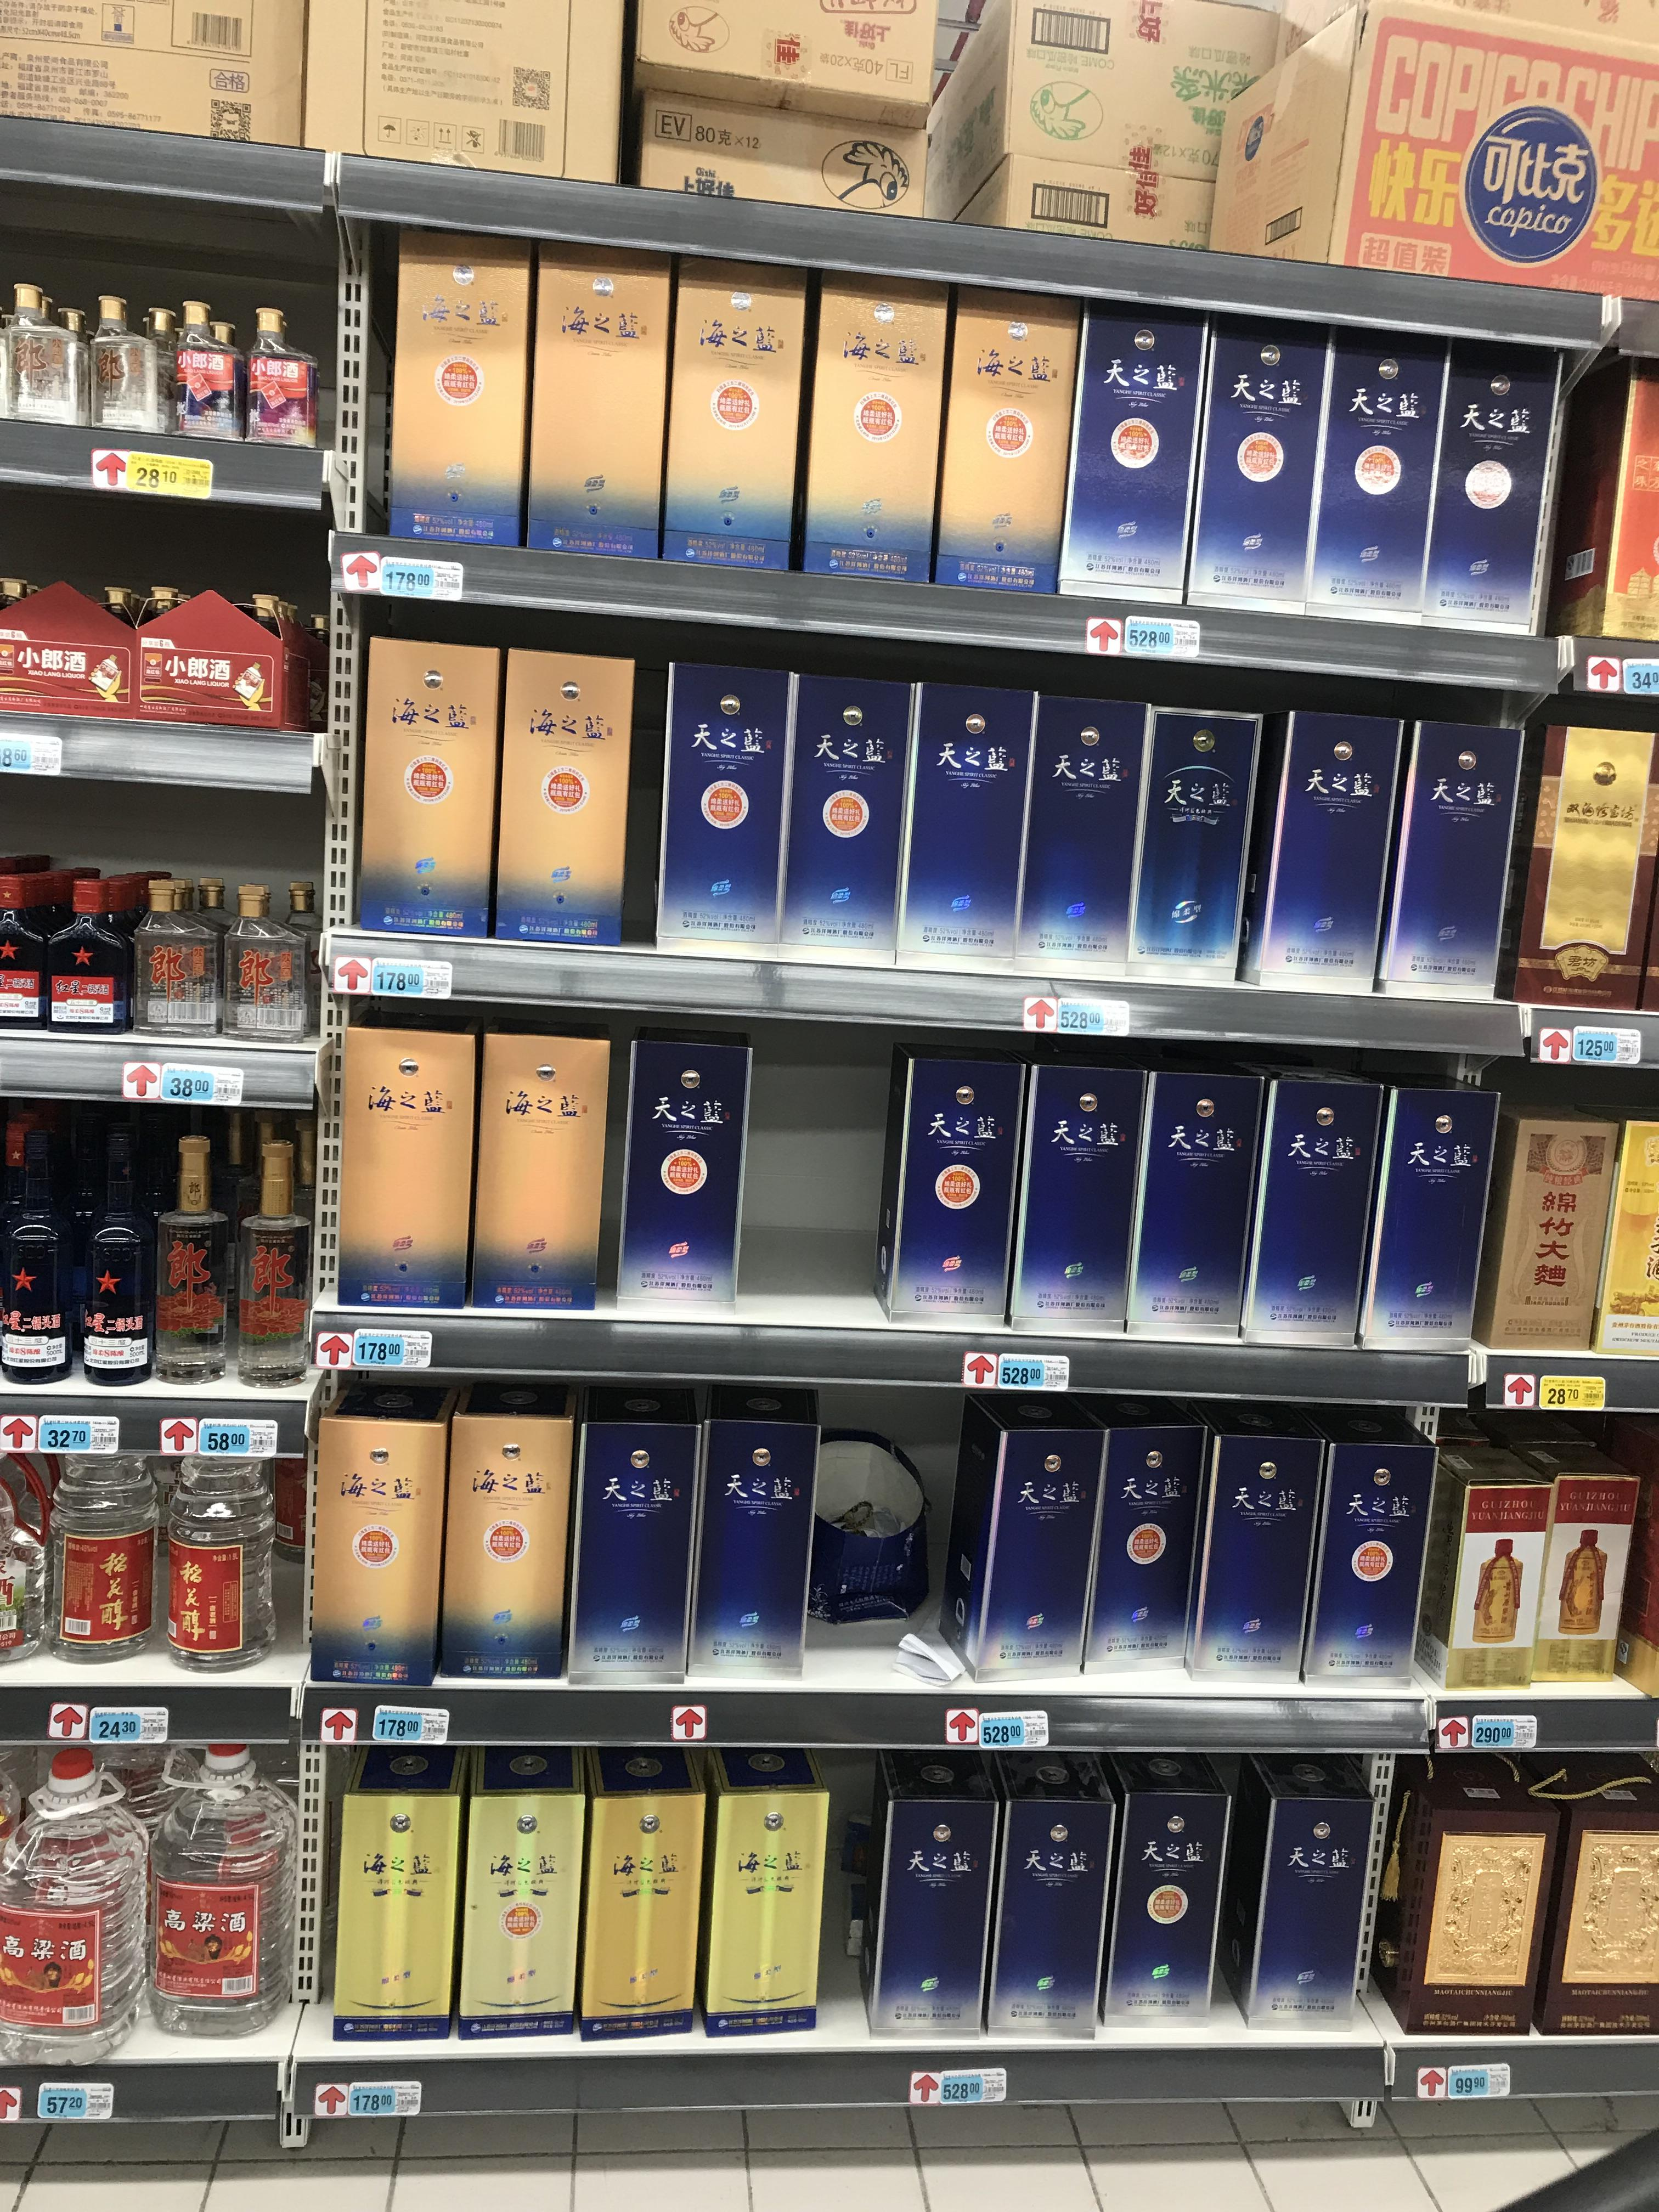bag: (929, 282, 1077, 601), (641, 648, 791, 960), (1066, 300, 1220, 597), (871, 1042, 1028, 1332), (769, 643, 906, 967), (1434, 336, 1570, 634), (1366, 1052, 1504, 1343), (1304, 1407, 1446, 1679), (0, 585, 136, 735)
bottle: (1371, 702, 1535, 993), (139, 1737, 288, 2043), (1234, 693, 1375, 995), (1084, 1747, 1234, 2029), (1227, 1757, 1375, 2033), (608, 1026, 756, 1301), (329, 1750, 469, 2040), (439, 1376, 570, 1679), (565, 1383, 697, 1676), (314, 1385, 444, 1681), (1190, 1400, 1324, 1681), (974, 1754, 1103, 2038), (868, 1750, 997, 2033), (460, 1749, 587, 2034), (579, 1749, 706, 2034), (692, 1378, 817, 1665), (160, 1420, 275, 1670), (803, 1426, 936, 1644), (38, 1428, 155, 1662), (75, 1113, 160, 1388), (0, 1115, 80, 1390), (152, 1134, 234, 1381), (234, 1137, 312, 1388), (47, 874, 132, 1036), (134, 880, 214, 1042), (227, 890, 305, 1049), (87, 303, 162, 437), (247, 307, 310, 449), (0, 871, 54, 1028), (171, 300, 230, 442), (155, 298, 207, 439)
box: (1368, 1756, 1553, 2040), (347, 617, 493, 951), (1188, 303, 1338, 624), (490, 639, 643, 949), (798, 272, 948, 585), (5, 5, 305, 162), (655, 260, 805, 570), (1121, 1050, 1274, 1348), (1500, 707, 1650, 1010), (526, 237, 666, 557), (392, 233, 532, 552), (333, 1007, 477, 1308), (1073, 1390, 1209, 1688), (1467, 1108, 1633, 1350), (1131, 693, 1262, 993), (1009, 685, 1136, 986), (957, 1393, 1086, 1686), (1236, 1054, 1363, 1350), (695, 1749, 828, 2033), (1324, 322, 1446, 624), (1019, 1047, 1136, 1332), (132, 577, 319, 742), (911, 679, 1012, 979), (1534, 1440, 1645, 1686), (1429, 1440, 1542, 1679), (1595, 1118, 1657, 1343)
bucket: (3, 1754, 141, 2041)
jar: (471, 1015, 613, 1312), (1535, 1777, 1657, 2033), (7, 287, 73, 430)
others: (1209, 2, 1659, 294), (619, 0, 1058, 230), (911, 19, 1243, 254), (298, 0, 617, 188)
